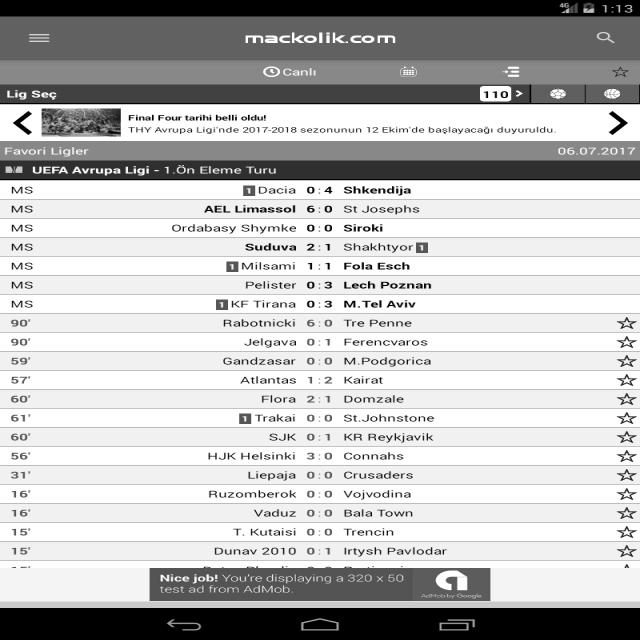ImageButton: (1, 105, 36, 136), (594, 112, 634, 138), (594, 63, 637, 85), (497, 57, 531, 82), (258, 63, 318, 77), (390, 62, 438, 78), (18, 31, 64, 47), (478, 88, 530, 102), (538, 83, 574, 99), (592, 88, 626, 100), (594, 31, 618, 47)
ImageView: (410, 564, 491, 602)
RatingBar: (611, 312, 633, 560)
TextView: (190, 237, 472, 557), (2, 297, 50, 563), (154, 571, 403, 595), (228, 175, 426, 197), (125, 123, 560, 133), (30, 160, 293, 176), (241, 28, 404, 48), (164, 222, 400, 234), (194, 202, 429, 214), (0, 142, 100, 160), (128, 111, 275, 123), (548, 145, 638, 161), (2, 87, 64, 101), (0, 219, 46, 235), (2, 279, 46, 293), (5, 182, 45, 196), (6, 257, 44, 271), (2, 205, 44, 217), (2, 241, 40, 253)
